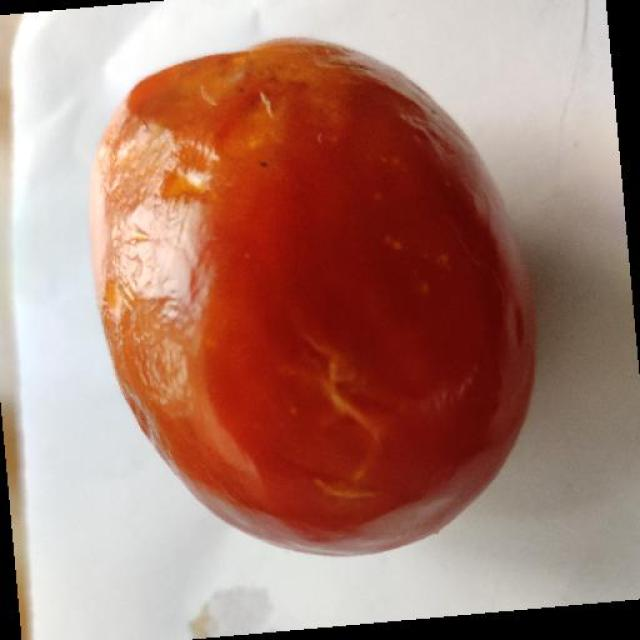Stale_tomato: (91, 30, 516, 549)
